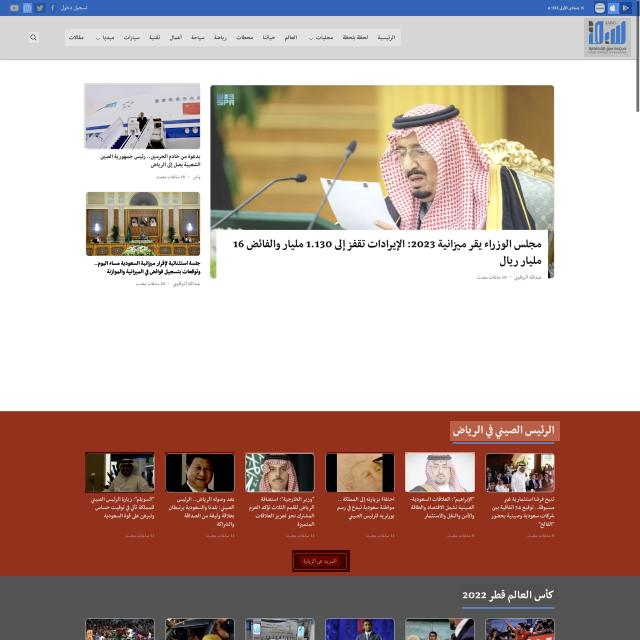CheckBox: (292, 550, 350, 572)
Input field: (93, 258, 201, 276)
bag: (0, 0, 636, 60)
breadcrumbs: (450, 421, 560, 441), (461, 584, 558, 604)
carousel: (594, 1, 607, 14), (620, 2, 632, 14), (608, 3, 619, 14), (34, 3, 46, 13), (29, 32, 39, 43), (23, 3, 32, 13), (10, 4, 20, 12), (50, 3, 56, 13)
copy: (210, 83, 554, 231), (85, 191, 200, 257), (84, 83, 200, 148), (85, 452, 154, 493), (405, 452, 475, 492), (484, 452, 554, 492), (165, 452, 234, 492), (245, 452, 314, 492), (327, 452, 394, 493)
data feed: (300, 556, 340, 566)
date picker: (584, 18, 631, 57)
decoration: (65, 29, 401, 46)
